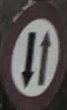Two way: (6, 9, 61, 95)
